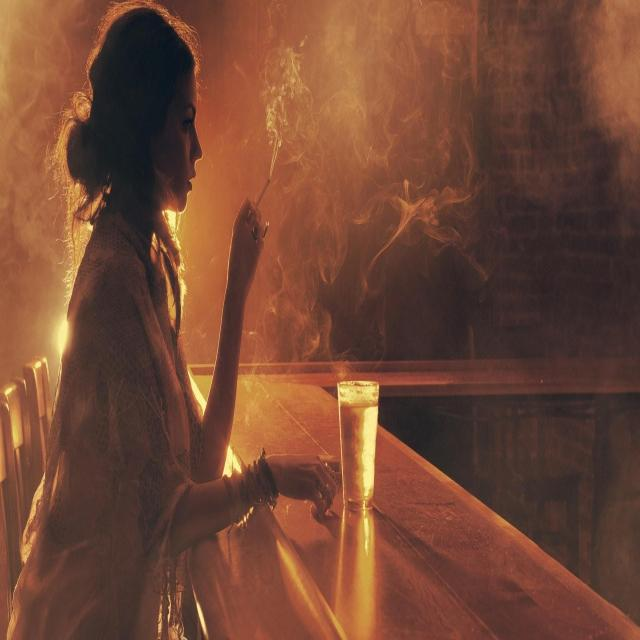cigarette: (243, 160, 289, 247)
